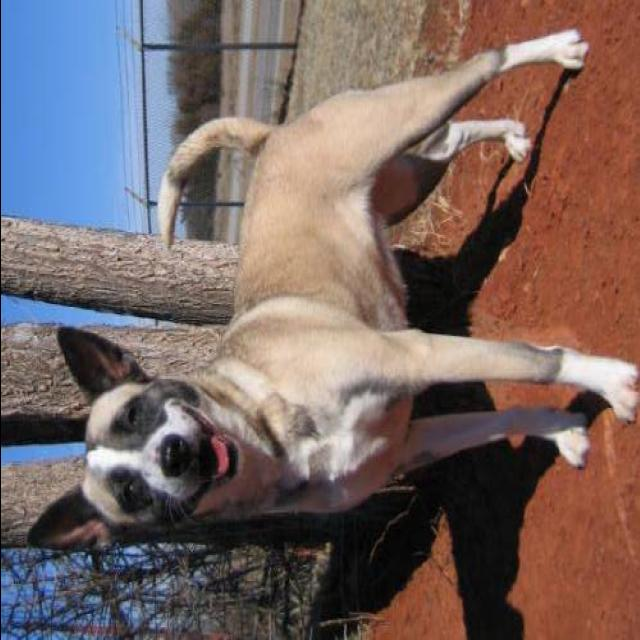dog: (23, 29, 640, 602)
